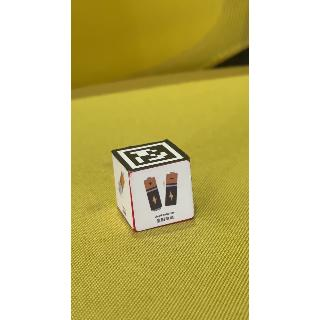Used_Battery: (129, 169, 198, 230)
